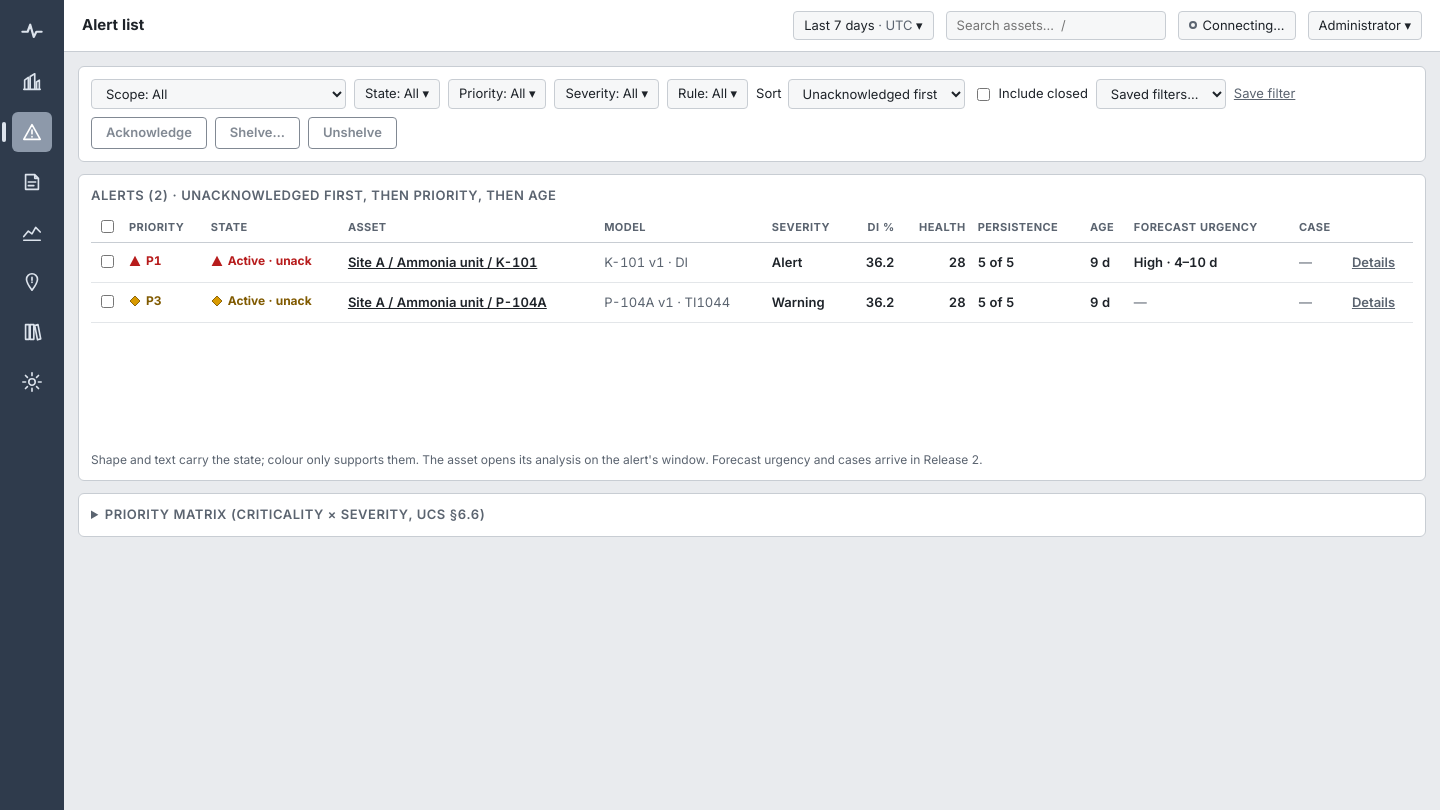
it: SCR-02 alert list › acknowledges the selection after confirmation
The image size is (1440, 810).
Click the checkbox named "Select alert 1 on K-101" at (108, 262), box [101,255,114,268]
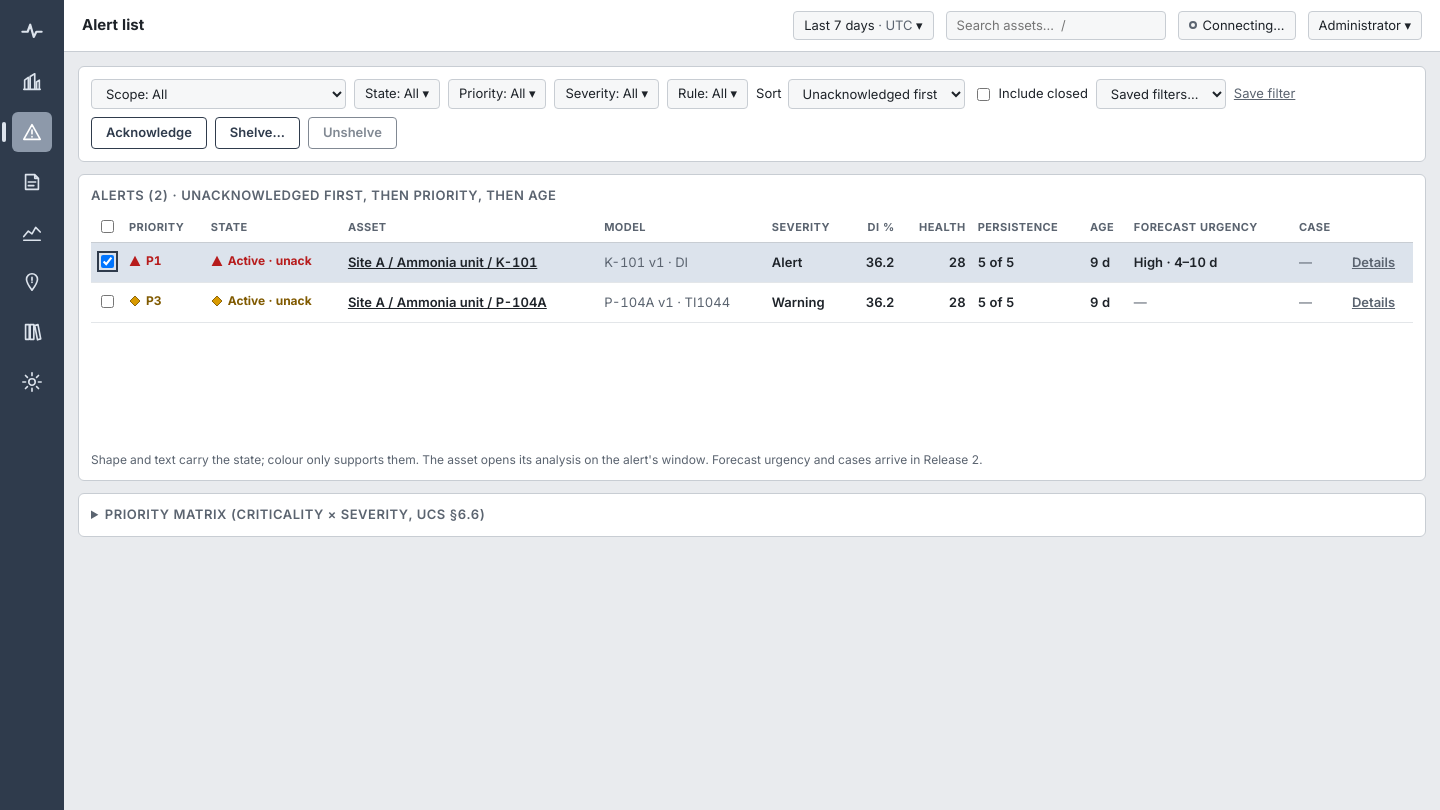
Click the button "Acknowledge" at (149, 133), box [91,117,207,148]
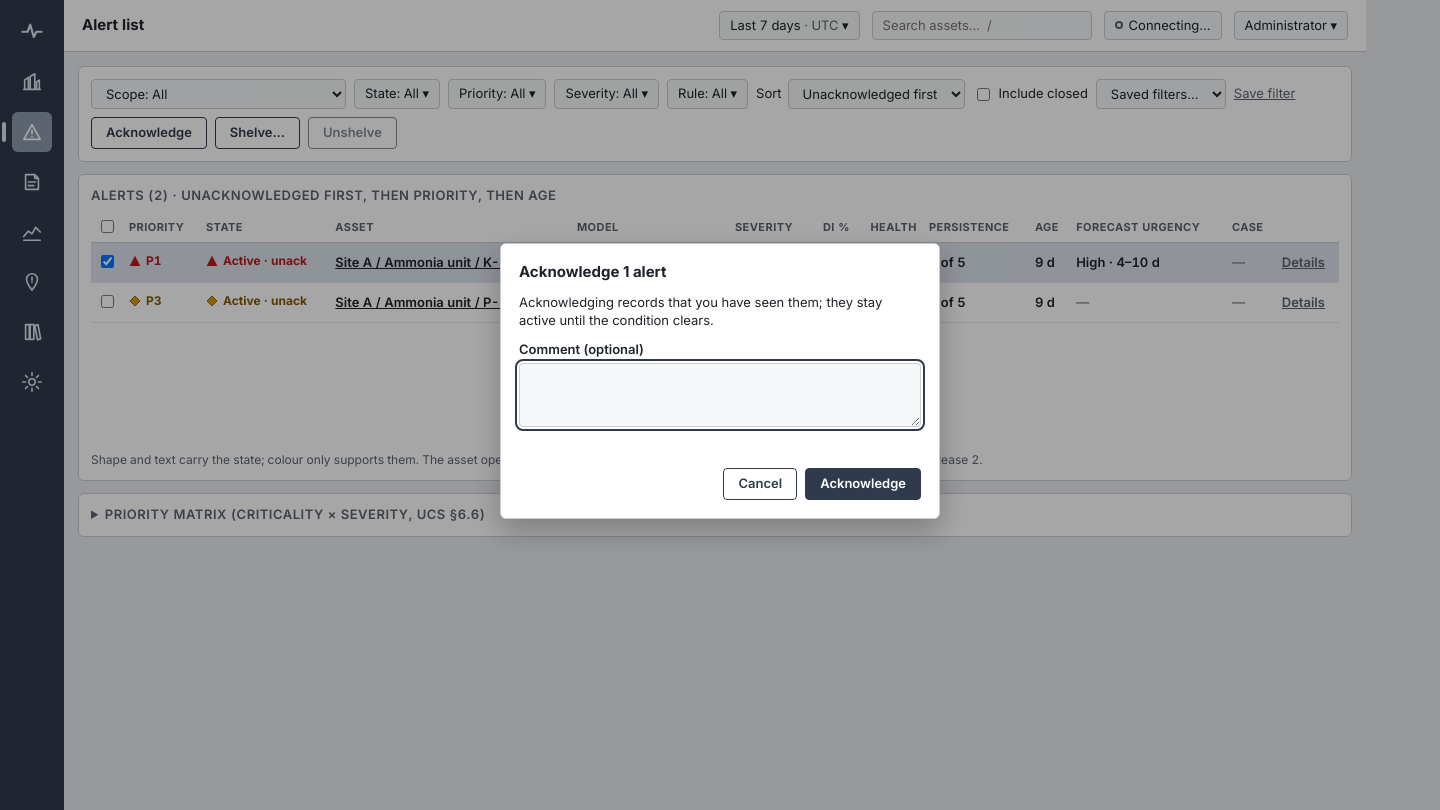
Click the button "Acknowledge" at (863, 484), box [805,468,921,500]
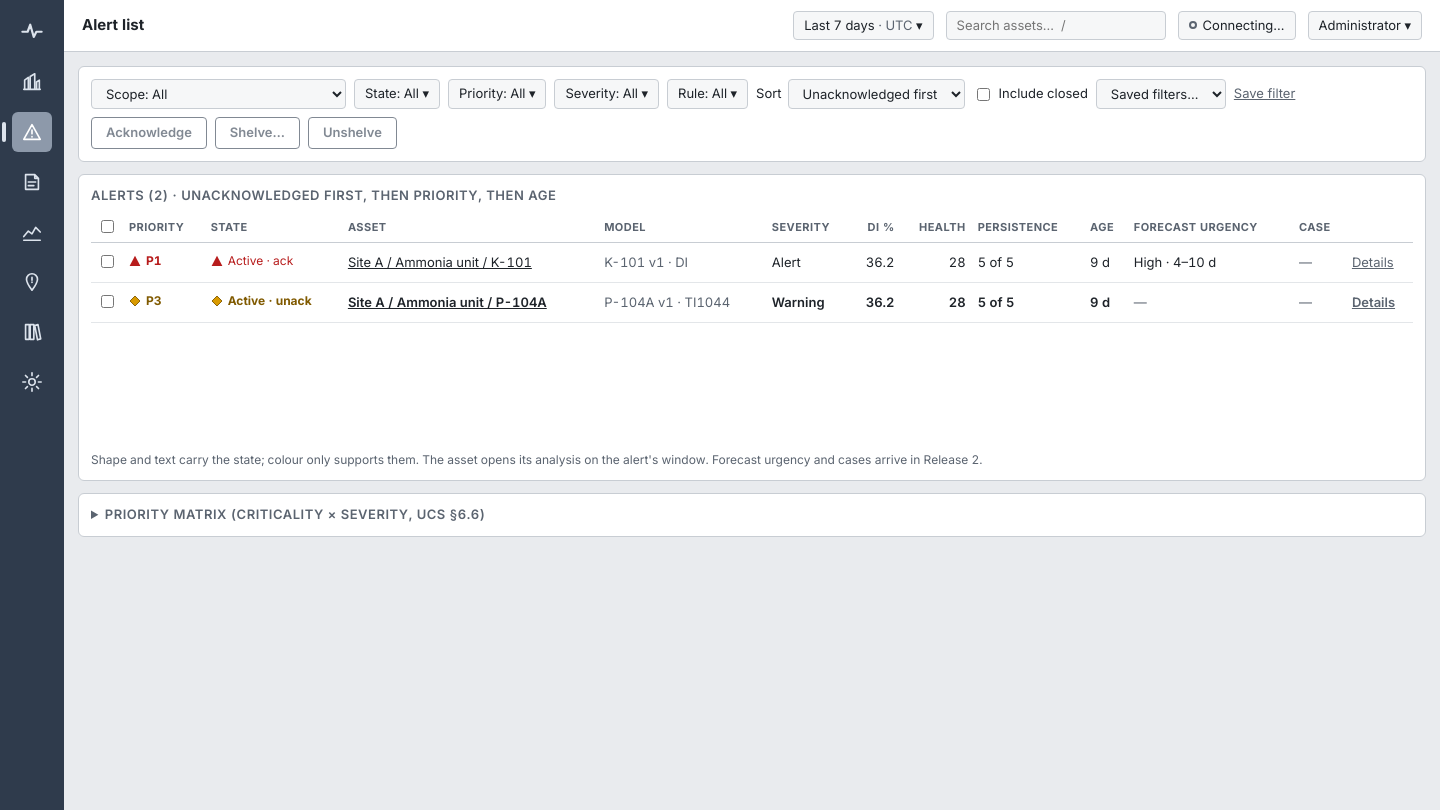
Expected: the row that starts with "Active · ack" is shown, [228,253,293,268]
